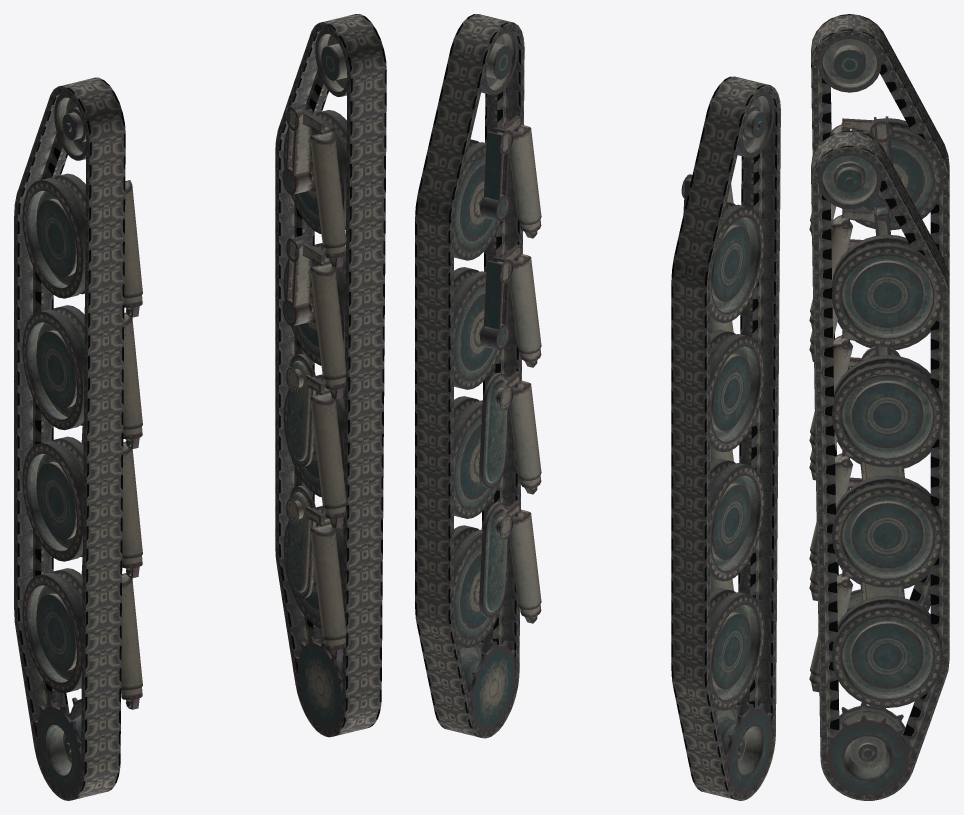
Rendered from Chassis.glb.
The picture shows the model from 3 angles, left to right: view 1: azimuth 30°, elevation 25°; view 2: azimuth 150°, elevation 25°; view 3: azimuth 270°, elevation 25°; orthographic projection. The views are drawn at different scales.
Parts seen in each view (by area): view 1: set_1_group_0, set_2_group_0, set_0_group_0, set_3_group_0; view 2: set_1_group_0, set_3_group_0, set_0_group_0, set_2_group_0; view 3: set_3_group_0, set_0_group_0, set_2_group_0, set_1_group_0.
Part boxes in pixels (x1,y1,x2,y2): set_1_group_0: (14,77,125,800); set_2_group_0: (22,93,142,793); set_0_group_0: (275,14,386,737); set_3_group_0: (282,30,347,729); set_1_group_0: (671,76,780,800); set_3_group_0: (454,29,541,731); set_0_group_0: (415,14,524,738); set_2_group_0: (681,92,774,793); set_3_group_0: (809,152,942,794); set_0_group_0: (811,130,949,800); set_2_group_0: (809,36,942,611); set_1_group_0: (811,14,949,611).
Size of the model in its own units: 2.34 by 5.33 by 1.04.
4 materials, 4 textured.
